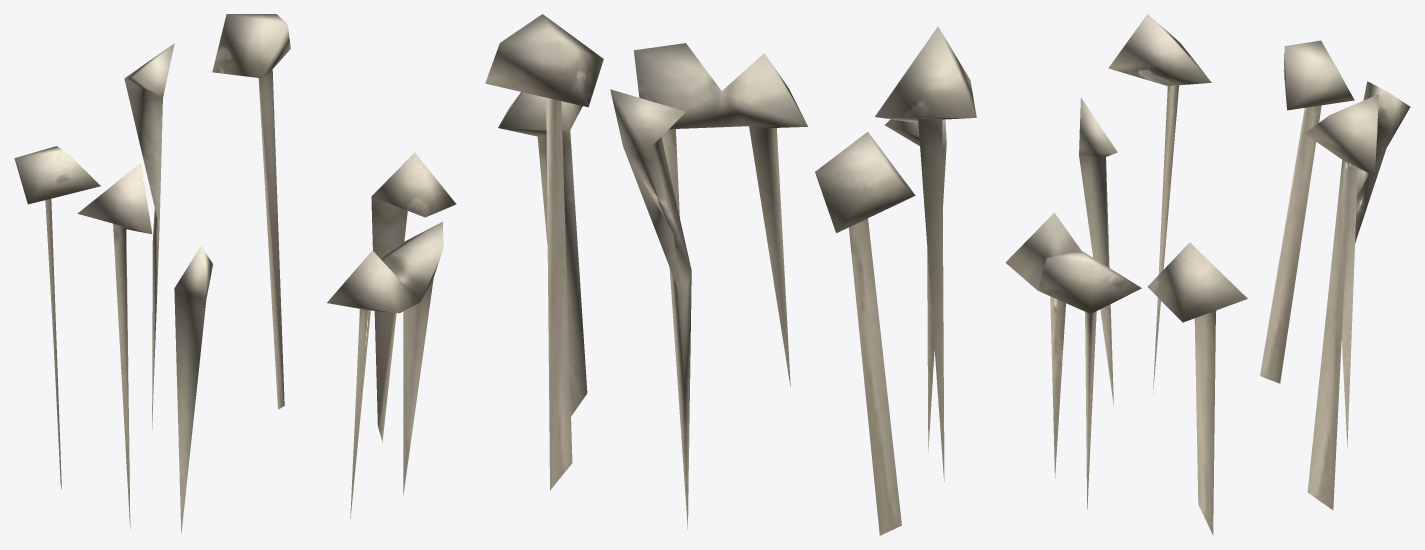
Rendered from mushgrass_d_far.glb.
The picture shows the model from 3 angles, left to right: view 1: azimuth 30°, elevation 25°; view 2: azimuth 150°, elevation 25°; view 3: azimuth 270°, elevation 25°; orthographic projection. The views are drawn at different scales.
Parts seen in each view (by area): view 1: mushgrass; view 2: mushgrass; view 3: mushgrass.
Part boxes in pixels (left/top/right/bottom): mushgrass: left=14, top=14, right=456, bottom=533; mushgrass: left=485, top=14, right=976, bottom=535; mushgrass: left=1005, top=14, right=1410, bottom=535.
Size of the model in its own units: 0.1452 by 0.1424 by 0.1292.
Materials: 1 (1 with a texture image).
